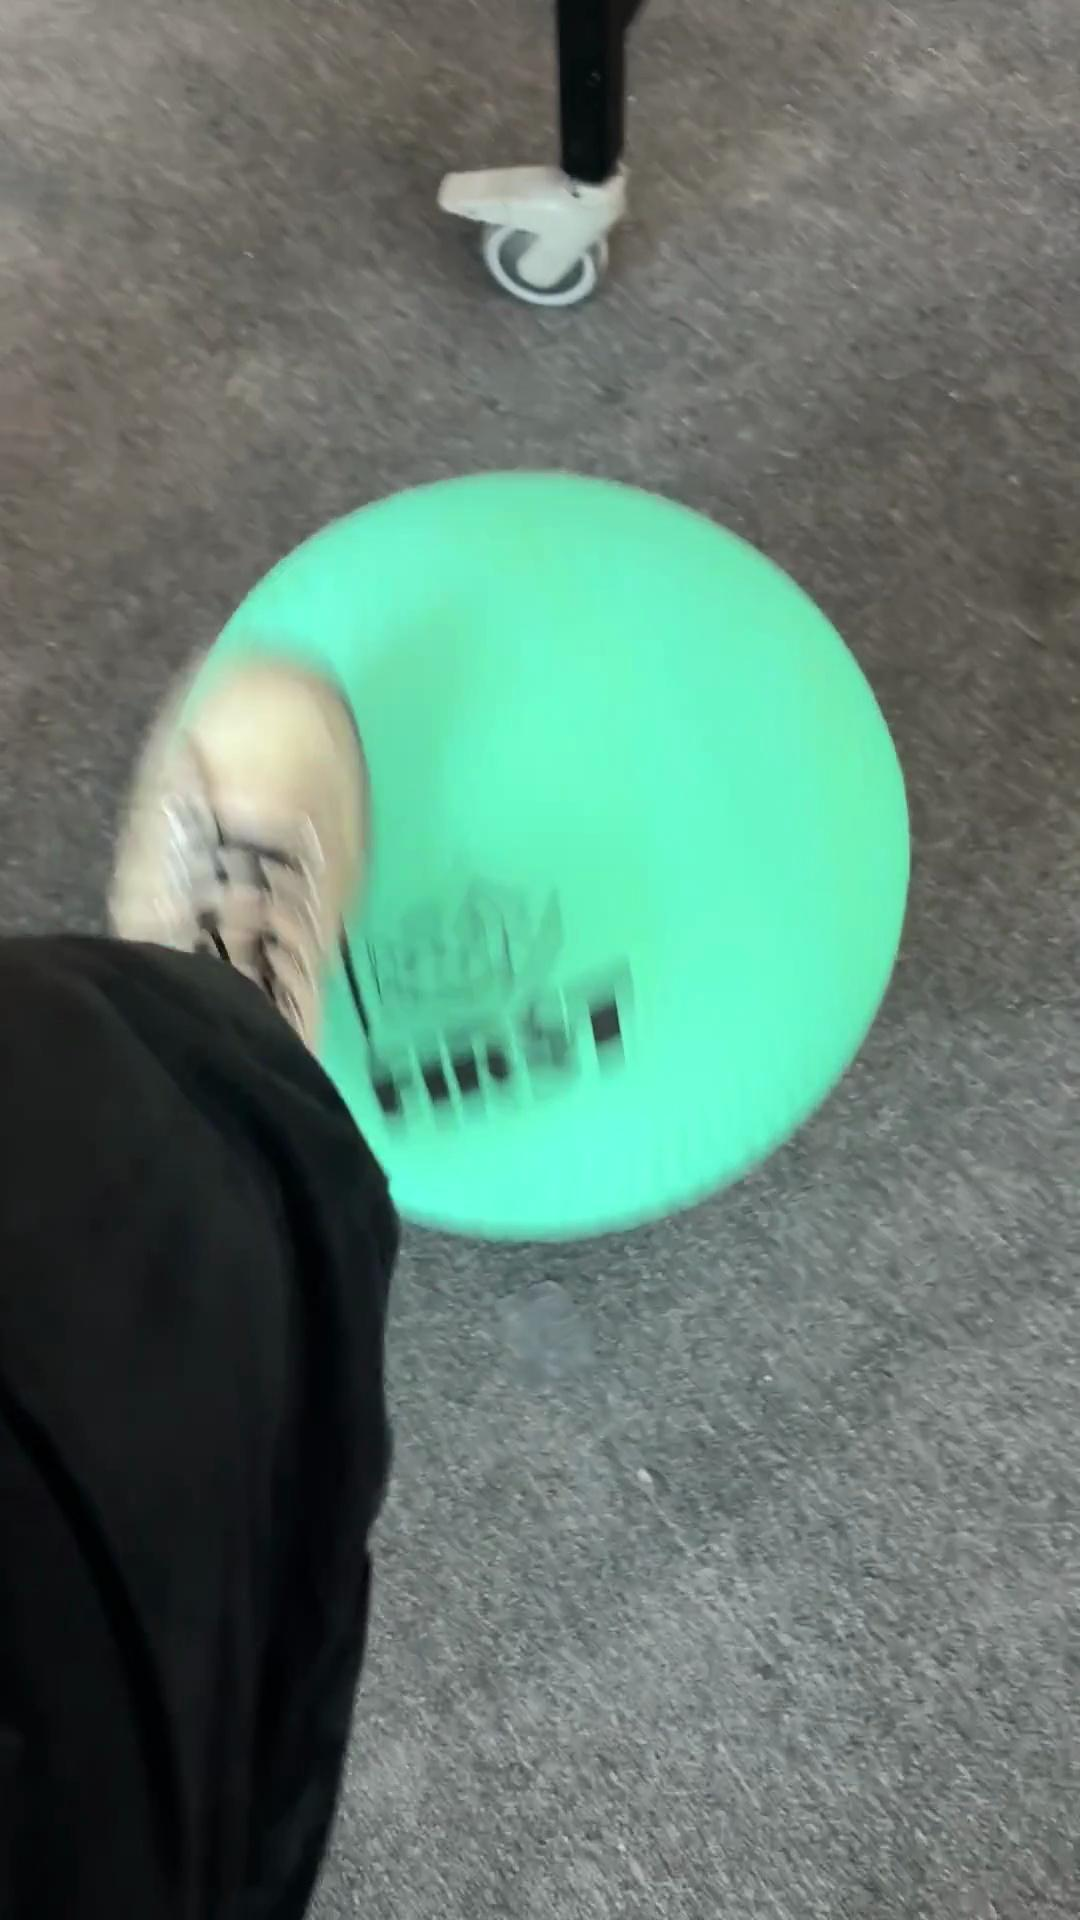ALGAE: (111, 465, 914, 1246)
